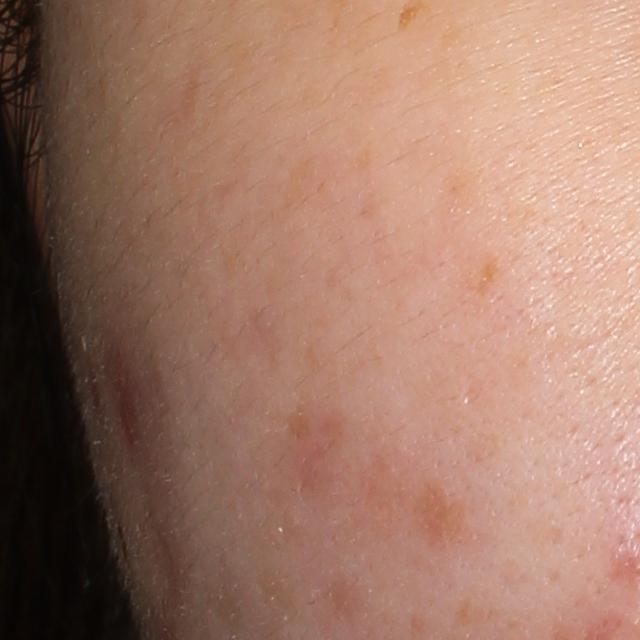melasma: (278, 148, 333, 212), (472, 248, 505, 300)
